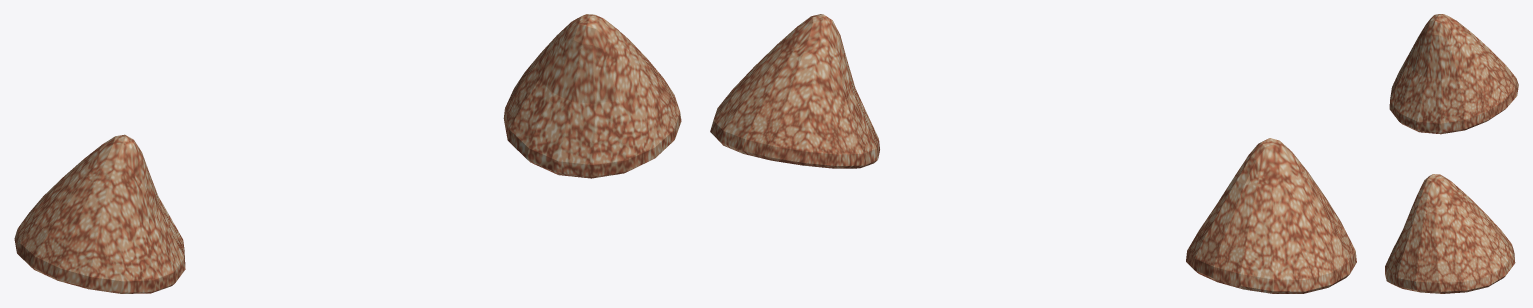
File: 女性_内分泌系统_肾上腺.fbx
The picture shows the model from 3 angles, left to right: view 1: azimuth 30°, elevation 25°; view 2: azimuth 150°, elevation 25°; view 3: azimuth 270°, elevation 25°; orthographic projection. The views are drawn at different scales.
Visible parts, largest first — view 1: 女性_内分泌系统_肾上腺; view 2: 女性_内分泌系统_肾上腺; view 3: 女性_内分泌系统_肾上腺.
Boxes of the visible parts, bbox=[...] form: 女性_内分泌系统_肾上腺: bbox=[14, 14, 681, 293]; 女性_内分泌系统_肾上腺: bbox=[710, 14, 1356, 293]; 女性_内分泌系统_肾上腺: bbox=[1385, 14, 1518, 293].
Bounding box in the file's own units: 15.33 × 3.41 × 3.73.
